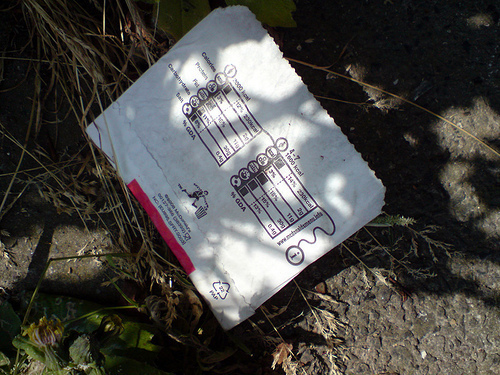litter: (84, 2, 386, 333)
